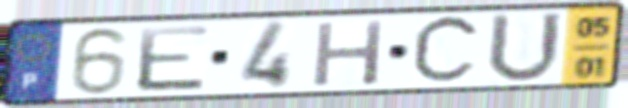4: (236, 18, 297, 94)
6: (67, 24, 133, 97)
C: (407, 11, 485, 90)
E: (135, 23, 214, 94)
H: (309, 17, 389, 90)
U: (482, 10, 566, 86)
